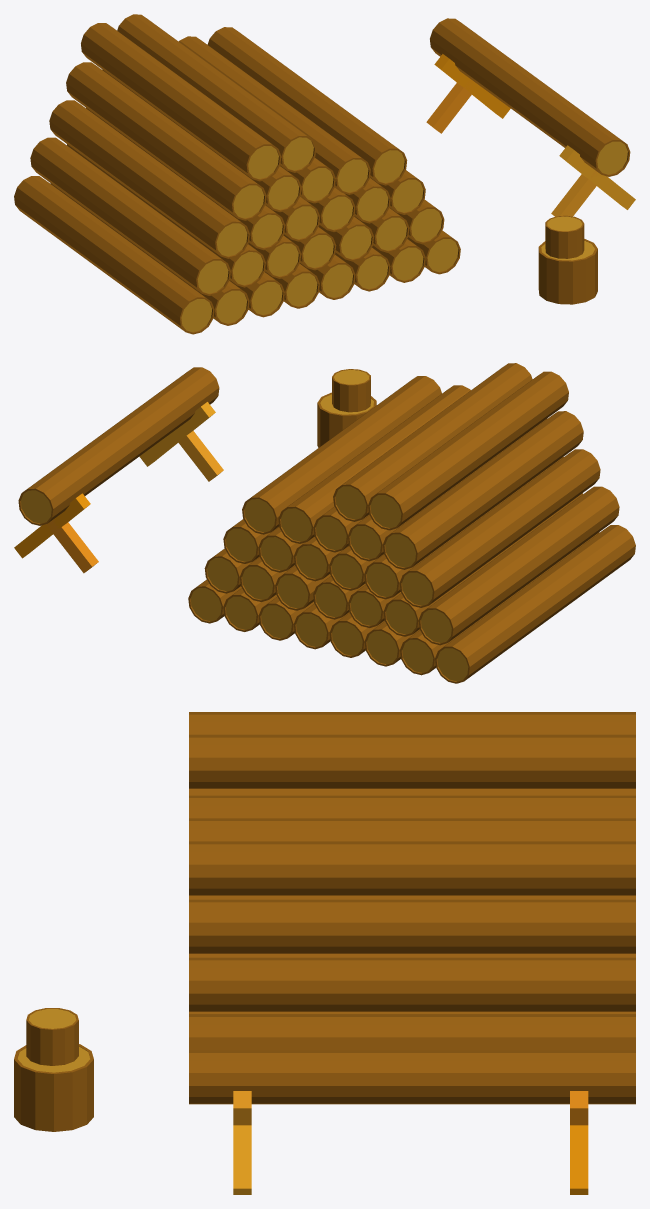
File: kłoday.fbx
3 views of the same model, one above another, from view 1: azimuth 30°, elevation 25°; view 2: azimuth 150°, elevation 25°; view 3: azimuth 270°, elevation 25° (orthographic). The views are drawn at different scales.
Parts seen in each view (by area): view 1: Cylinder.011, Cylinder.021, Cylinder.017, Cylinder.025, Cylinder.003, Cylinder.030, Cylinder.027, Cylinder.026, Cylinder.024, Cylinder.028, Cylinder.029, Cylinder.010 (+23 smaller); view 2: Cylinder.025, Cylinder.011, Cylinder.017, Cylinder.003, Cylinder.021, Cylinder.030, Cylinder.027, Cylinder.026, Cylinder.024, Cylinder.029, Cylinder.010, Cylinder.022 (+23 smaller); view 3: Cylinder.013, Cylinder.019, Cylinder.026, Cylinder.027, Cylinder.030, Cylinder.005, Cylinder.023, Cylinder.024, Cylinder.025, Cylinder.028, Cylinder.022, Cylinder.029 (+6 smaller).
Boxes of the visible parts, x1=… form: Cylinder.011: x1=30, y1=137, x2=230, y2=295; Cylinder.021: x1=66, y1=62, x2=266, y2=220; Cylinder.017: x1=49, y1=100, x2=249, y2=258; Cylinder.025: x1=81, y1=23, x2=281, y2=181; Cylinder.003: x1=14, y1=176, x2=214, y2=334; Cylinder.030: x1=430, y1=18, x2=630, y2=176; Cylinder.027: x1=207, y1=27, x2=407, y2=185; Cylinder.026: x1=117, y1=14, x2=316, y2=172; Cylinder.024: x1=179, y1=36, x2=370, y2=194; Cylinder.028: x1=538, y1=239, x2=597, y2=304; Cylinder.029: x1=545, y1=215, x2=584, y2=258; Cylinder.010: x1=67, y1=144, x2=265, y2=287; Cylinder.025: x1=368, y1=371, x2=568, y2=530; Cylinder.011: x1=418, y1=486, x2=619, y2=645; Cylinder.017: x1=399, y1=449, x2=600, y2=607; Cylinder.003: x1=435, y1=525, x2=635, y2=683; Cylinder.021: x1=383, y1=411, x2=583, y2=569; Cylinder.030: x1=18, y1=367, x2=219, y2=525; Cylinder.027: x1=242, y1=376, x2=441, y2=534; Cylinder.026: x1=333, y1=363, x2=532, y2=521; Cylinder.024: x1=278, y1=385, x2=470, y2=543; Cylinder.029: x1=332, y1=369, x2=370, y2=412; Cylinder.010: x1=383, y1=493, x2=582, y2=636; Cylinder.022: x1=348, y1=418, x2=547, y2=561; Cylinder.013: x1=189, y1=958, x2=635, y2=1011; Cylinder.019: x1=189, y1=900, x2=635, y2=953; Cylinder.026: x1=189, y1=735, x2=635, y2=788; Cylinder.027: x1=189, y1=842, x2=635, y2=895; Cylinder.030: x1=189, y1=1050, x2=635, y2=1104; Cylinder.005: x1=189, y1=1014, x2=635, y2=1050; Cylinder.023: x1=189, y1=795, x2=635, y2=818; Cylinder.024: x1=189, y1=818, x2=635, y2=841; Cylinder.025: x1=189, y1=712, x2=635, y2=734; Cylinder.028: x1=14, y1=1044, x2=93, y2=1131; Cylinder.022: x1=189, y1=789, x2=635, y2=795; Cylinder.029: x1=26, y1=1008, x2=78, y2=1065.
Bounding box in the file's own units: 860 × 301 × 727.
